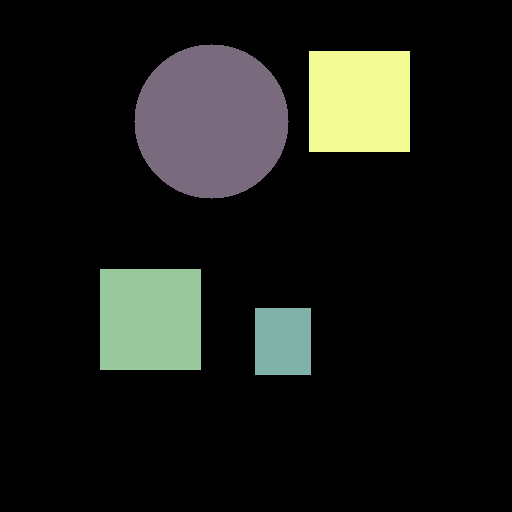circle: (134, 44, 288, 198)
rectangle: (255, 308, 310, 374)
square: (100, 269, 200, 369), (309, 51, 409, 151)
